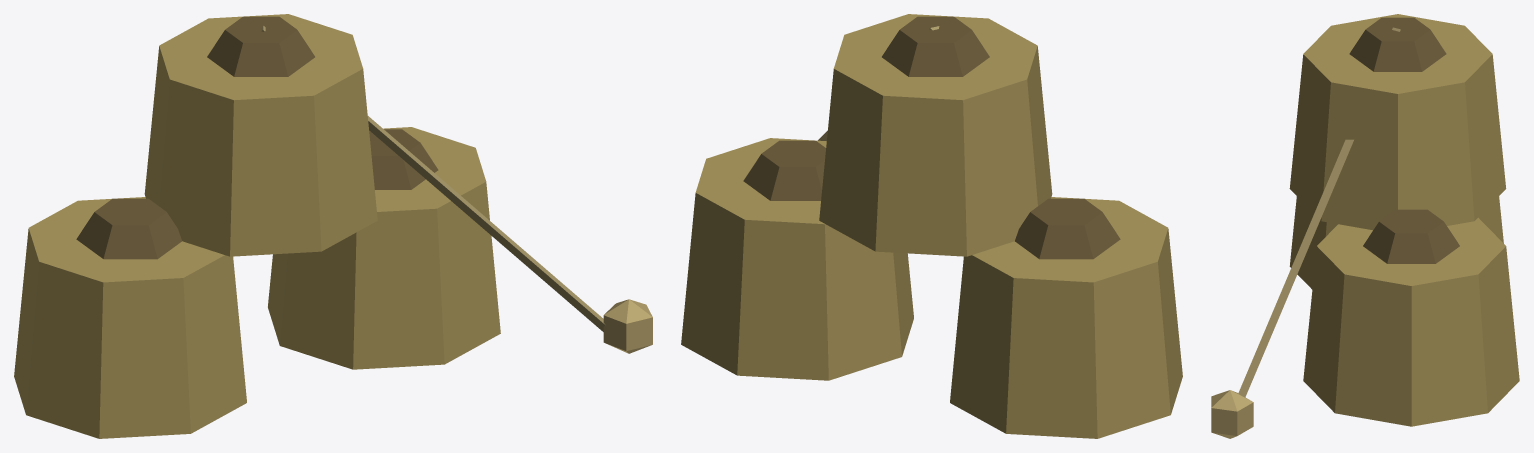
The model's file is a3c_crab_pots.glb.
3 views of the same model, side by side, from view 1: azimuth 30°, elevation 25°; view 2: azimuth 150°, elevation 25°; view 3: azimuth 270°, elevation 25° (orthographic). The views are drawn at different scales.
Visible parts, largest first — view 1: a3c_crab_pots; view 2: a3c_crab_pots; view 3: a3c_crab_pots.
Part boxes in pixels (bbox=[...]): a3c_crab_pots: bbox=[14, 14, 652, 438]; a3c_crab_pots: bbox=[681, 14, 1182, 438]; a3c_crab_pots: bbox=[1211, 14, 1519, 438].
Size of the model in its own units: 2.03 by 1.21 by 1.14.
